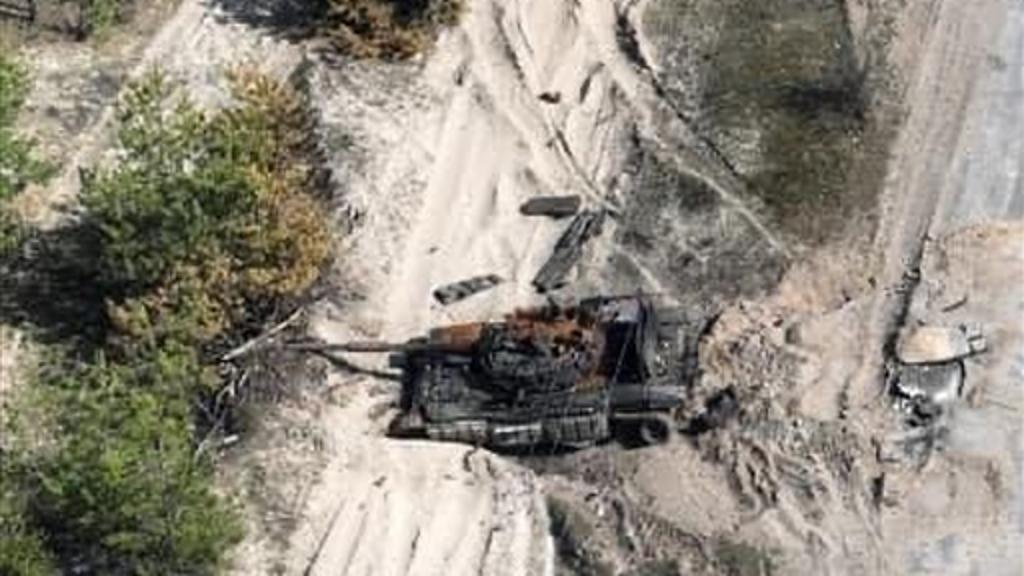TANK: (284, 276, 710, 466)
